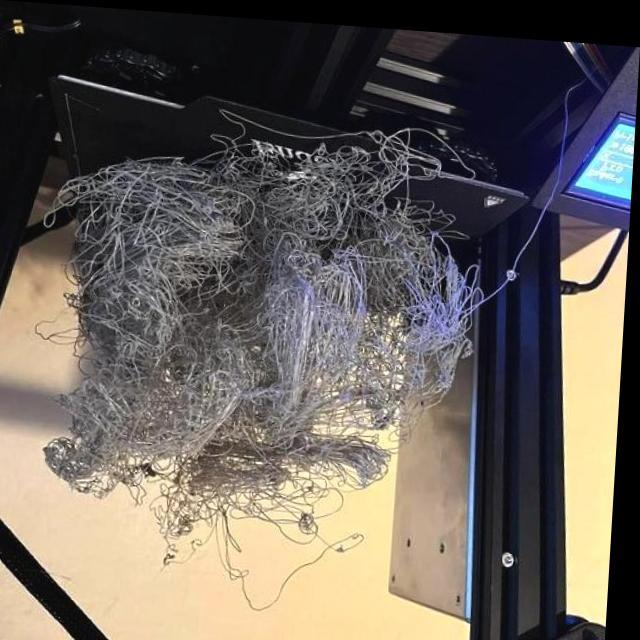spaghetti: (66, 341, 246, 497), (246, 314, 390, 494), (80, 208, 232, 347), (81, 157, 298, 237), (248, 220, 368, 323), (396, 233, 467, 393), (311, 151, 408, 242), (239, 478, 329, 531), (159, 481, 217, 548)
